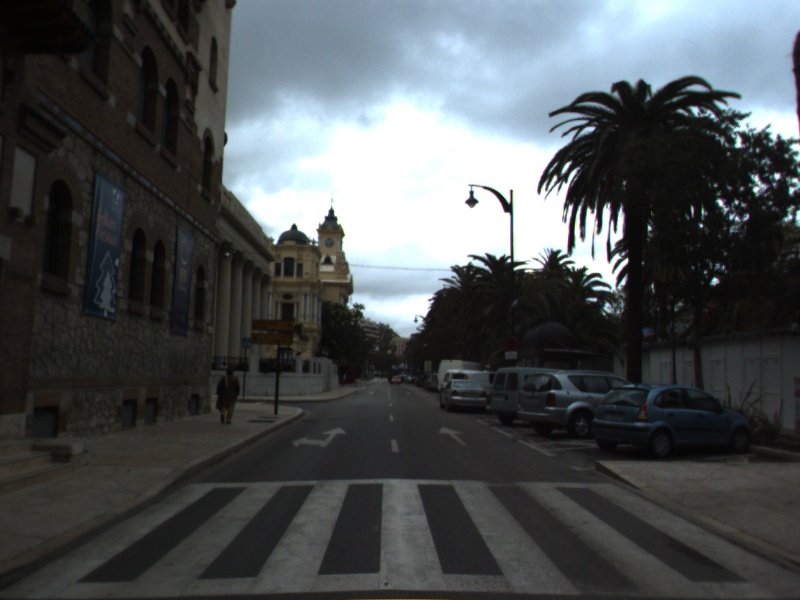STRAIGHT: (436, 424, 470, 448)
STRAIGHT_LEFT: (290, 425, 350, 450)
